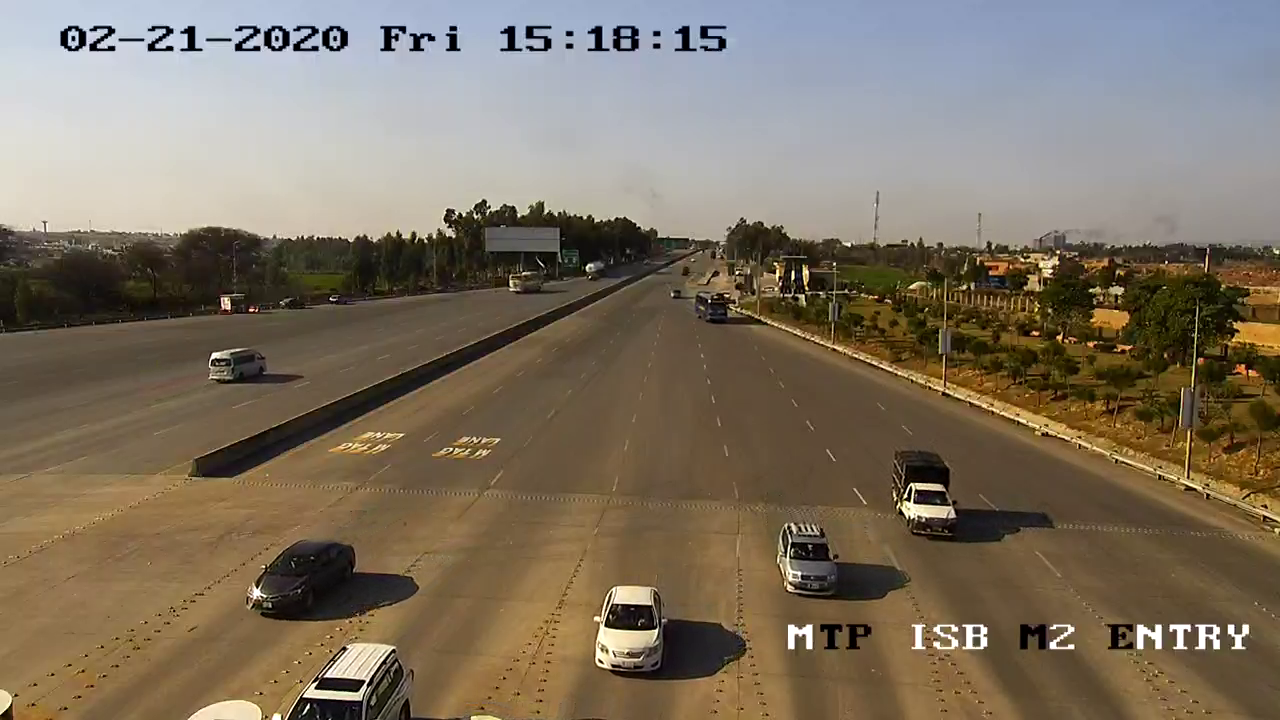f1: (242, 531, 362, 622), (587, 577, 674, 684), (887, 441, 969, 551), (769, 514, 846, 606)
